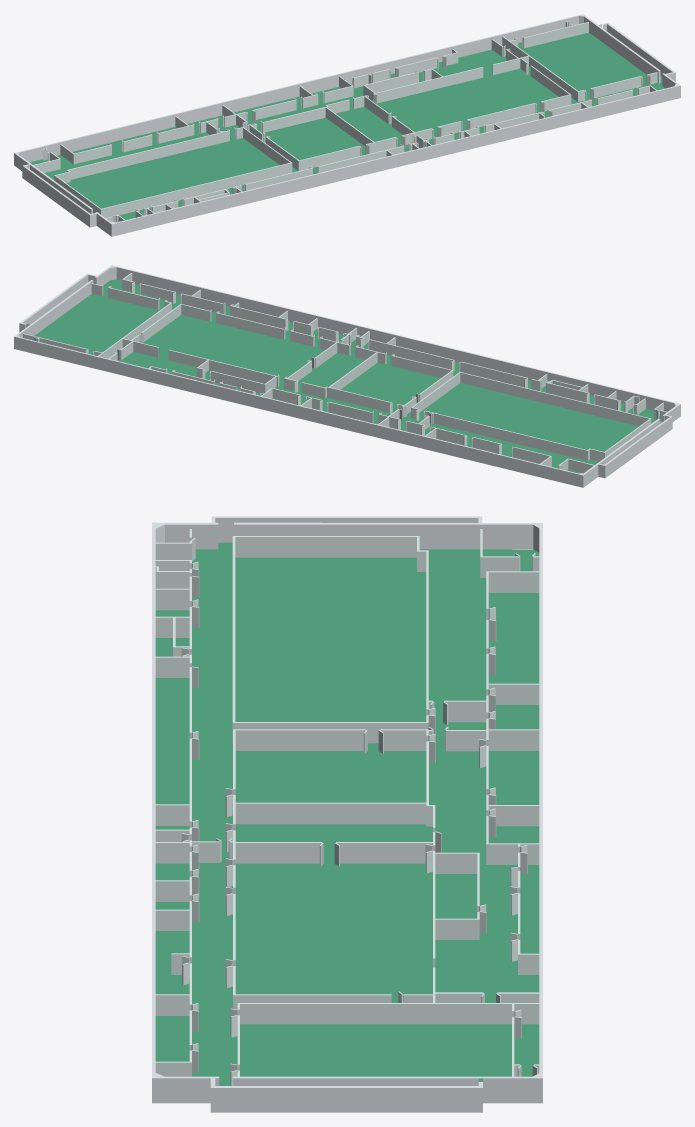
File: fiveWall.glb
The picture shows the model from 3 angles, top to bottom: view 1: azimuth 30°, elevation 25°; view 2: azimuth 150°, elevation 25°; view 3: azimuth 270°, elevation 25°; orthographic projection. The views are drawn at different scales.
Visible parts, largest first — view 1: 平面.1, 立方体.1, 立方体.45, 立方体.49, 立方体.86, 立方体.98, 立方体.72, 立方体.79, 立方体.93, 立方体.66, 立方体.18, 立方体.131 (+11 smaller); view 2: 平面.1, 立方体.1, 立方体.45, 立方体.49, 立方体.86, 立方体.18, 立方体.72, 立方体.17, 立方体.79, 立方体.93, 立方体.66, 立方体.28 (+12 smaller); view 3: 平面.1, 立方体.1, 立方体.93, 立方体.69, 立方体.46, 立方体.57, 立方体.75, 立方体.76, 立方体.55, 立方体.91, 立方体.105, 立方体.114 (+7 smaller).
Part boxes in pixels (x1=…): 平面.1: x1=30, y1=32, x2=665, y2=219; 立方体.1: x1=14, y1=14, x2=680, y2=236; 立方体.45: x1=101, y1=162, x2=291, y2=217; 立方体.49: x1=68, y1=130, x2=229, y2=179; 立方体.86: x1=373, y1=67, x2=483, y2=103; 立方体.98: x1=523, y1=22, x2=588, y2=48; 立方体.72: x1=467, y1=103, x2=535, y2=128; 立方体.79: x1=262, y1=106, x2=328, y2=132; 立方体.93: x1=502, y1=36, x2=577, y2=101; 立方体.66: x1=299, y1=146, x2=360, y2=170; 立方体.18: x1=318, y1=145, x2=404, y2=172; 立方体.131: x1=363, y1=72, x2=418, y2=95; 平面.1: x1=34, y1=279, x2=662, y2=473; 立方体.1: x1=14, y1=265, x2=680, y2=487; 立方体.45: x1=460, y1=372, x2=650, y2=426; 立方体.49: x1=425, y1=410, x2=587, y2=460; 立方体.86: x1=168, y1=349, x2=278, y2=386; 立方体.18: x1=369, y1=339, x2=454, y2=369; 立方体.72: x1=216, y1=312, x2=284, y2=339; 立方体.17: x1=460, y1=361, x2=527, y2=387; 立方体.79: x1=327, y1=387, x2=392, y2=412; 立方体.93: x1=98, y1=302, x2=171, y2=358; 立方体.66: x1=391, y1=355, x2=451, y2=377; 立方体.28: x1=230, y1=305, x2=287, y2=328; 平面.1: x1=155, y1=542, x2=539, y2=1085; 立方体.1: x1=152, y1=516, x2=542, y2=1112; 立方体.93: x1=238, y1=1003, x2=539, y2=1024; 立方体.69: x1=235, y1=802, x2=426, y2=824; 立方体.46: x1=233, y1=536, x2=418, y2=557; 立方体.57: x1=233, y1=729, x2=366, y2=750; 立方体.75: x1=336, y1=842, x2=434, y2=863; 立方体.76: x1=235, y1=842, x2=322, y2=863; 立方体.55: x1=233, y1=722, x2=426, y2=743; 立方体.91: x1=234, y1=994, x2=391, y2=1009; 立方体.105: x1=487, y1=571, x2=539, y2=592; 立方体.114: x1=488, y1=729, x2=539, y2=750.
Bounding box in the file's own units: 5056 × 103 × 1461.
